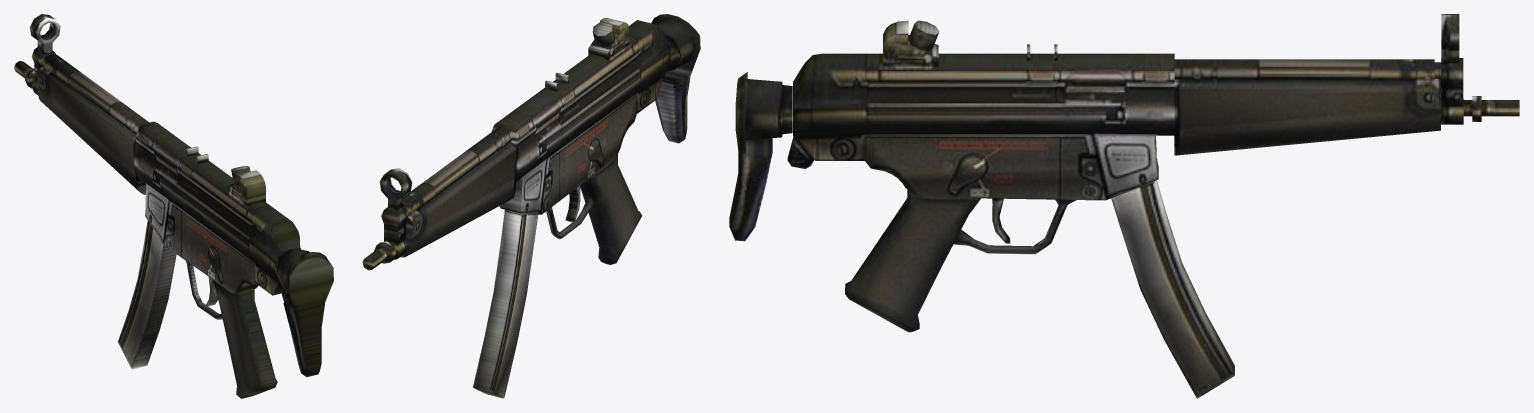
3 renders of one model, left to right at view 1: azimuth 30°, elevation 25°; view 2: azimuth 150°, elevation 25°; view 3: azimuth 270°, elevation 25°, orthographic. The views are drawn at different scales.
Parts seen in each view (by area): view 1: MP5N:Model; view 2: MP5N:Model; view 3: MP5N:Model.
Part boxes in pixels (x1=…): MP5N:Model: x1=14, y1=14, x2=333, y2=398; MP5N:Model: x1=362, y1=14, x2=700, y2=398; MP5N:Model: x1=729, y1=14, x2=1519, y2=398.
Bounding box in the file's own units: 10.7 × 66.49 × 126.
1 material, 1 textured.
